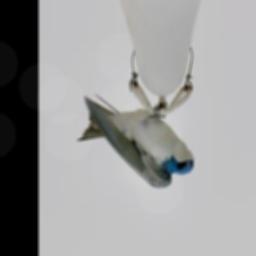Swallow: (75, 91, 194, 189)
